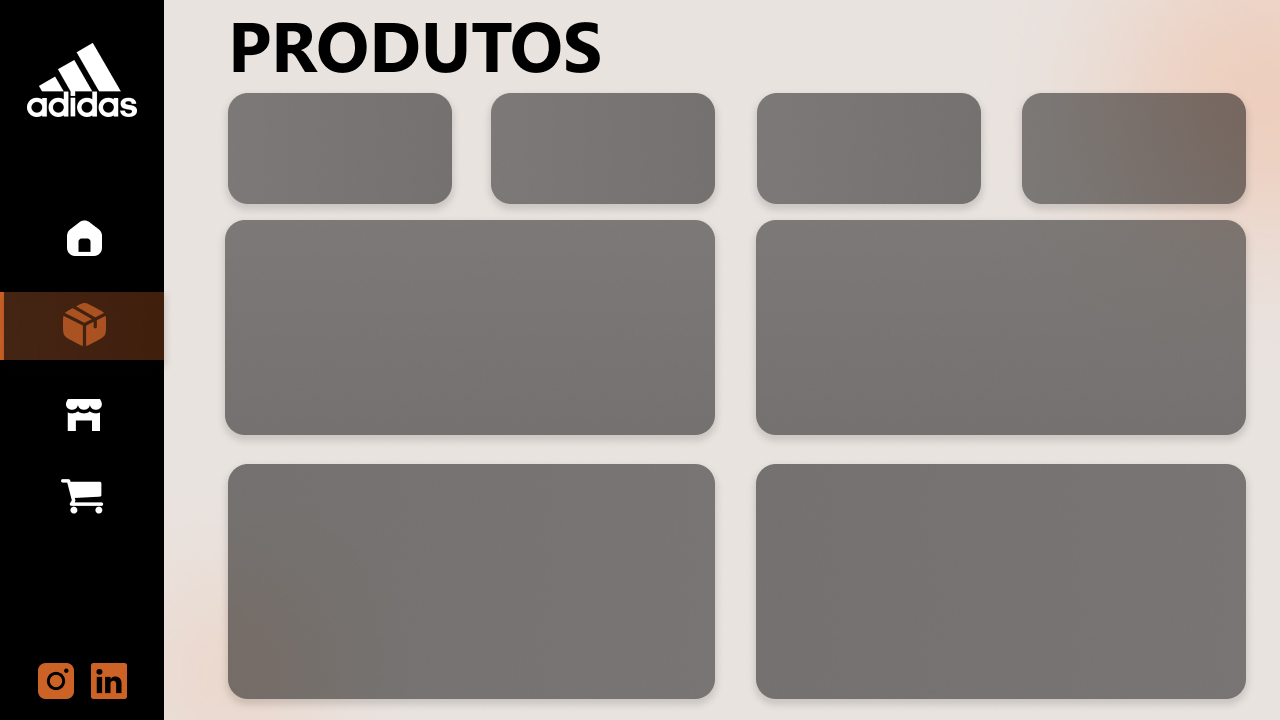

Layout of this report page (visuals, bound fields, positions):
{"tool":"powerbi","page":{"name":"Produtos","canvas":[1280,720],"ordinal":2},"visuals":[{"type":"clusteredColumnChart","fields":{"Category":["Data Sales Adidas.Product"],"Y":["Medidas.Total Revenue","Medidas.Total Profit"]},"box":[235.7,218.6,481.4,218.6],"z":0},{"type":"treemap","fields":{"Values":["Medidas.Count Sales"],"Group":["Data Sales Adidas.Product"]},"box":[774.3,465.7,464.3,227.1],"z":1000},{"type":"scatterChart","fields":{"X":["Medidas.Count Sales"],"Y":["Medidas.Total Revenue"],"Series":["Data Sales Adidas.Product"]},"box":[235.5,466.4,470,227.3],"z":2000},{"type":"lineChart","fields":{"Category":["Datas.MêsAbrev"],"Y":["Medidas.Product Count"]},"box":[758.6,228.6,480,192.9],"z":3000},{"type":"slicer","fields":{"Values":["Data Sales Adidas.Region"]},"box":[758.6,11.4,215.7,84.3],"z":4000},{"type":"slicer","fields":{"Values":["Data Sales Adidas.Ano"]},"box":[1021.4,11.4,217.1,84.3],"z":5000},{"type":"card","fields":{"Values":["Medidas.Margem Média %"]},"box":[492,94,221.3,106],"z":6000},{"type":"card","fields":{"Values":["Medidas.Medium Ticket"]},"box":[1022,94,224,108],"z":7000},{"type":"card","fields":{"Values":["Medidas.Total Profit"]},"box":[227.5,95,223.3,105.8],"z":8000},{"type":"card","fields":{"Values":["Medidas.Total Revenue"]},"box":[759.2,93.8,219.2,107.7],"z":9000},{"type":"actionButton","box":[88.9,656.7,42.2,44.4],"z":10000},{"type":"actionButton","box":[35.6,656.7,42.2,44.4],"z":11000},{"type":"actionButton","box":[0,216.7,164.4,50],"z":12000},{"type":"actionButton","box":[0,385.6,164.4,50],"z":13000},{"type":"actionButton","box":[0,465.6,164.4,50],"z":14000}]}

Visuals, with their boxes in screenshot pixels (x1, y1, x2, y2), scaled from the page's 1280x720 canvas onto the 1280x720 screenshot:
clusteredColumnChart - Data Sales Adidas.Product x Medidas.Total Revenue: BBox(236, 219, 717, 437)
treemap - Medidas.Count Sales x Data Sales Adidas.Product: BBox(774, 466, 1239, 693)
scatterChart - Medidas.Count Sales x Medidas.Total Revenue: BBox(236, 466, 706, 694)
lineChart - Datas.MêsAbrev x Medidas.Product Count: BBox(759, 229, 1239, 422)
slicer - Data Sales Adidas.Region: BBox(759, 11, 974, 96)
slicer - Data Sales Adidas.Ano: BBox(1021, 11, 1238, 96)
card - Medidas.Margem Média %: BBox(492, 94, 713, 200)
card - Medidas.Medium Ticket: BBox(1022, 94, 1246, 202)
card - Medidas.Total Profit: BBox(228, 95, 451, 201)
card - Medidas.Total Revenue: BBox(759, 94, 978, 202)
actionButton: BBox(89, 657, 131, 701)
actionButton: BBox(36, 657, 78, 701)
actionButton: BBox(0, 217, 164, 267)
actionButton: BBox(0, 386, 164, 436)
actionButton: BBox(0, 466, 164, 516)
